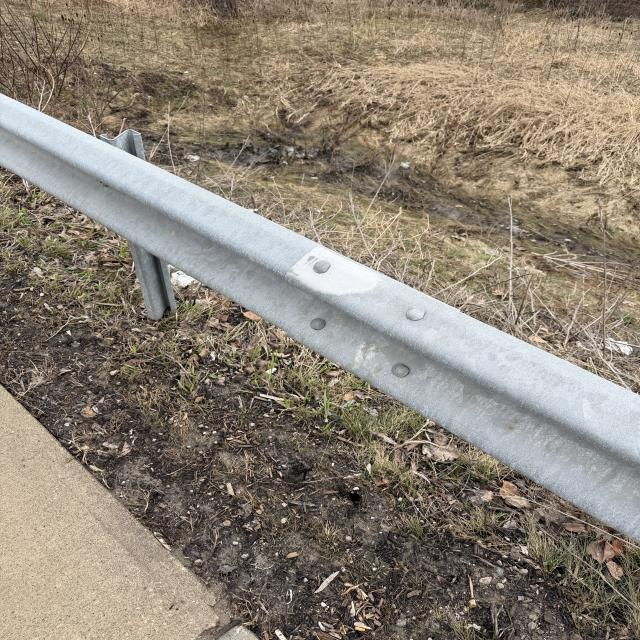Guard rail: (5, 128, 617, 494)
